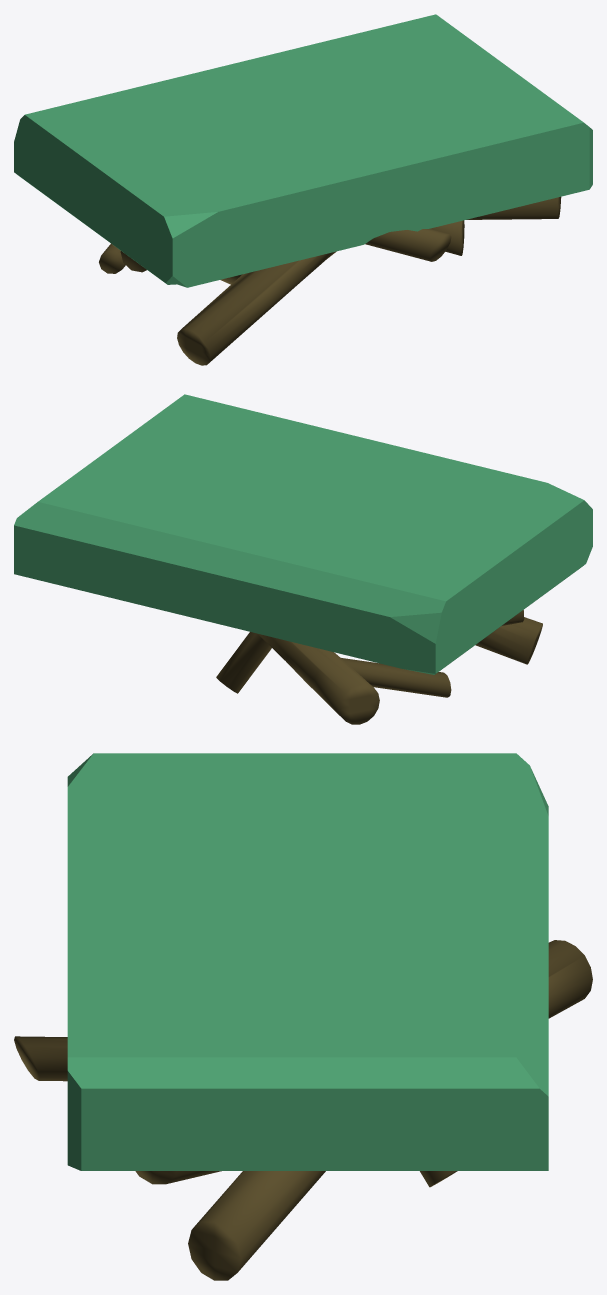
The model's file is Branches and Leaves.fbx.
The picture shows the model from 3 angles, top to bottom: view 1: azimuth 30°, elevation 25°; view 2: azimuth 150°, elevation 25°; view 3: azimuth 270°, elevation 25°; orthographic projection. The views are drawn at different scales.
Parts seen in each view (by area): view 1: Grass, Branch.001, Branch; view 2: Grass, Branch, Branch.001; view 3: Grass, Branch, Branch.001.
Boxes of the visible parts, <box> form: Grass: <box>14,14,592,287</box>; Branch.001: <box>120,229,451,365</box>; Branch: <box>99,196,561,273</box>; Grass: <box>14,394,592,674</box>; Branch: <box>216,632,451,724</box>; Branch.001: <box>475,610,542,664</box>; Grass: <box>67,753,548,1170</box>; Branch: <box>135,940,592,1280</box>; Branch.001: <box>14,1036,67,1081</box>.
Size of the model in its own units: 632 by 229 by 469.
